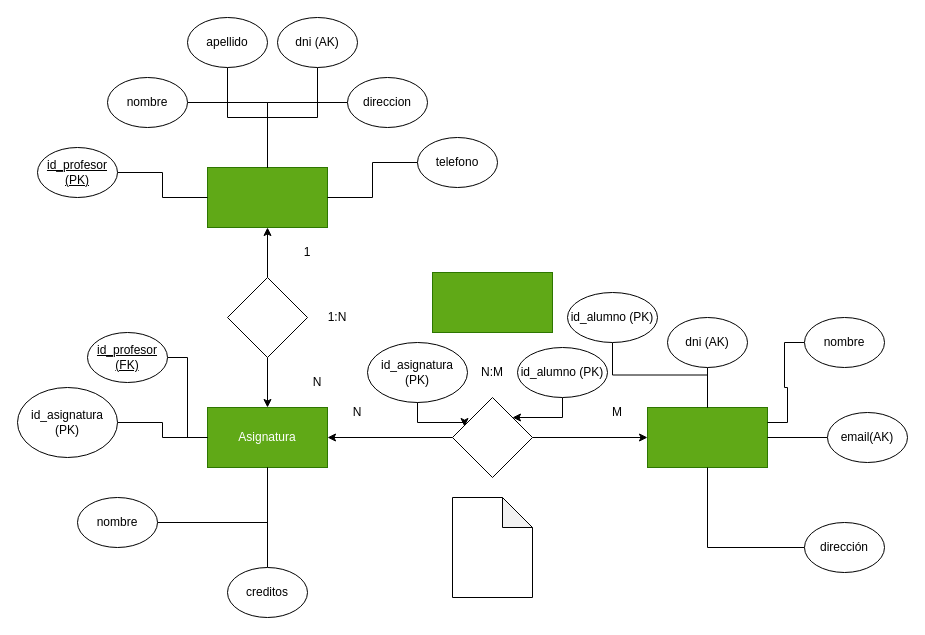
Image size: 925x635. Some labels were removed from this diagram. Each missing label, with the centre of its shape:
Alumno: the point at 707,437
Imparte: the point at 267,317
Matricula: the point at 492,302
Profesor: the point at 267,197
se va a convertir en una tabla intermedia Matricula: the point at 492,547
Se_Matricula: the point at 492,437
